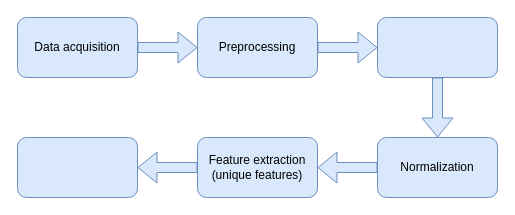
Image size: 515x215. Some labels were removed from this diagram. The shapes that lost their labels are listed below. From the top down, each one's box as (x1, y1, x2, y2) in pixels, then its label:
(376, 16, 498, 78): Segmentaiton
(16, 136, 138, 198): Classification
